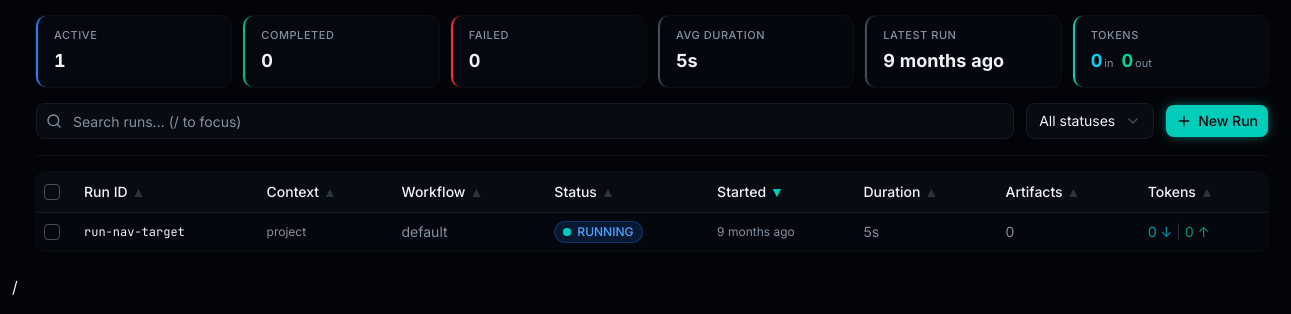
Test: RunListPage - row navigation › navigates to the run detail page when clicking a run row
Note: Click the run row (not the checkbox) - click on the runId text
Click the text "run-nav-target" at (167, 232), box [76, 212, 259, 251]
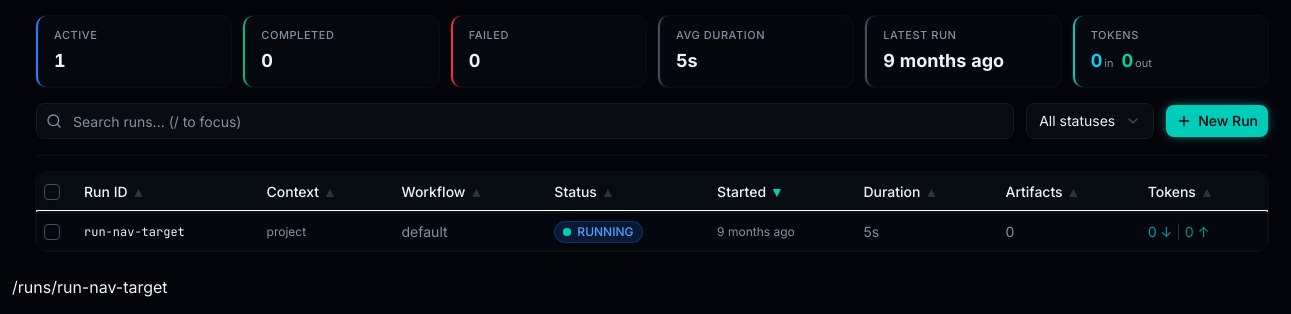
Check: the text with test id "location-display" reads "/runs/run-nav-target", box [12, 277, 168, 297]
